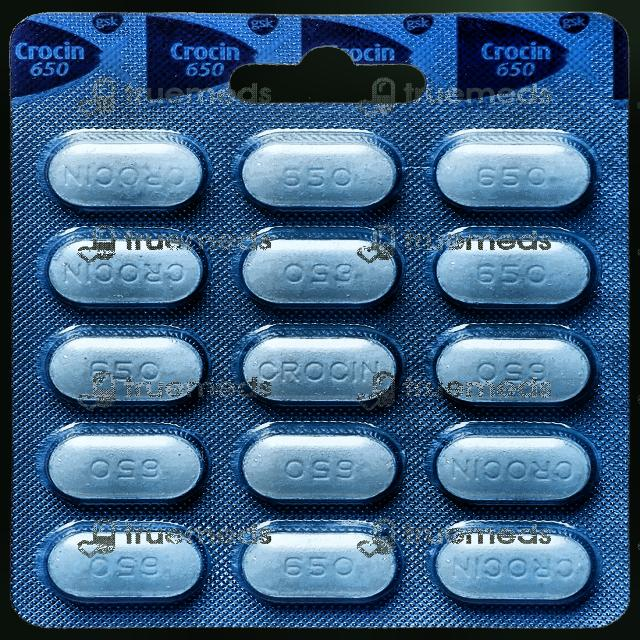Crocin: (16, 13, 630, 624)
